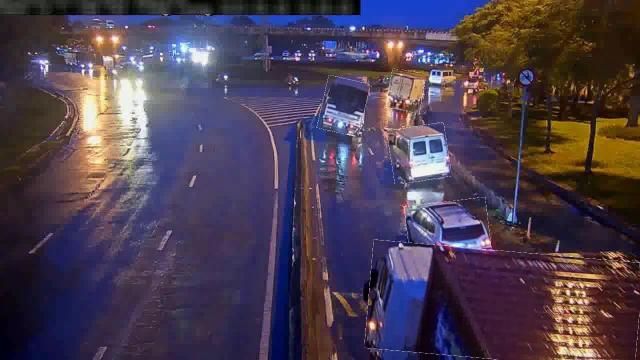Bus: (366, 245, 640, 359), (388, 124, 449, 182)
Car: (406, 200, 492, 272)
Truck: (319, 77, 367, 135), (388, 70, 424, 112)
